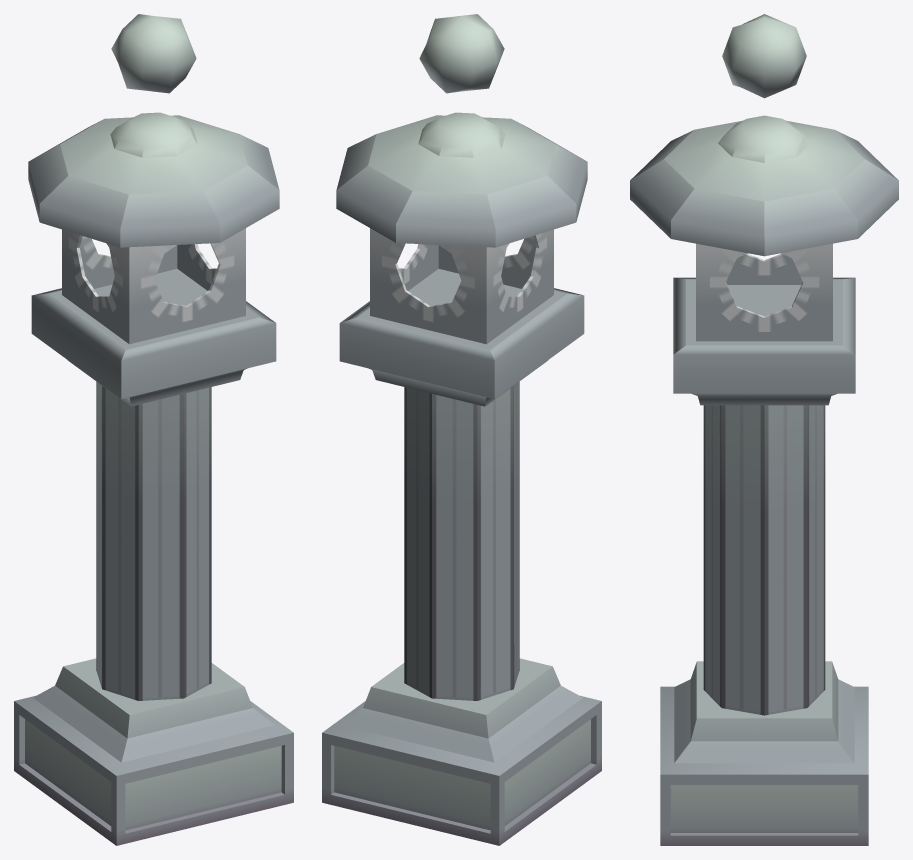
The model's file is LampObjectUnity.fbx.
The picture shows the model from 3 angles, left to right: view 1: azimuth 30°, elevation 25°; view 2: azimuth 150°, elevation 25°; view 3: azimuth 270°, elevation 25°; orthographic projection.
Parts seen in each view (by area): view 1: BaseBottom, Beam, Roof, BaseTop, Cube, Ball; view 2: BaseBottom, Beam, Roof, BaseTop, Cube, Ball; view 3: Beam, BaseBottom, Roof, BaseTop, Cube, Ball.
Part boxes in pixels (x1,y1,x2,y2): BaseBottom: (14, 658, 293, 845); Beam: (96, 381, 211, 700); Roof: (28, 112, 279, 247); BaseTop: (31, 269, 276, 406); Cube: (62, 228, 245, 344); Ball: (111, 14, 196, 93); BaseBottom: (322, 658, 601, 845); Beam: (404, 381, 519, 700); Roof: (336, 112, 587, 247); BaseTop: (339, 269, 584, 406); Cube: (370, 228, 553, 344); Ball: (419, 14, 504, 93); Beam: (703, 405, 825, 715); BaseBottom: (660, 661, 868, 845); Roof: (630, 115, 898, 256); BaseTop: (673, 277, 855, 405); Cube: (696, 243, 832, 341); Ball: (722, 14, 806, 98).
Size of the model in its own units: 1.19 by 3.84 by 1.19.
6 materials, 6 textured.
